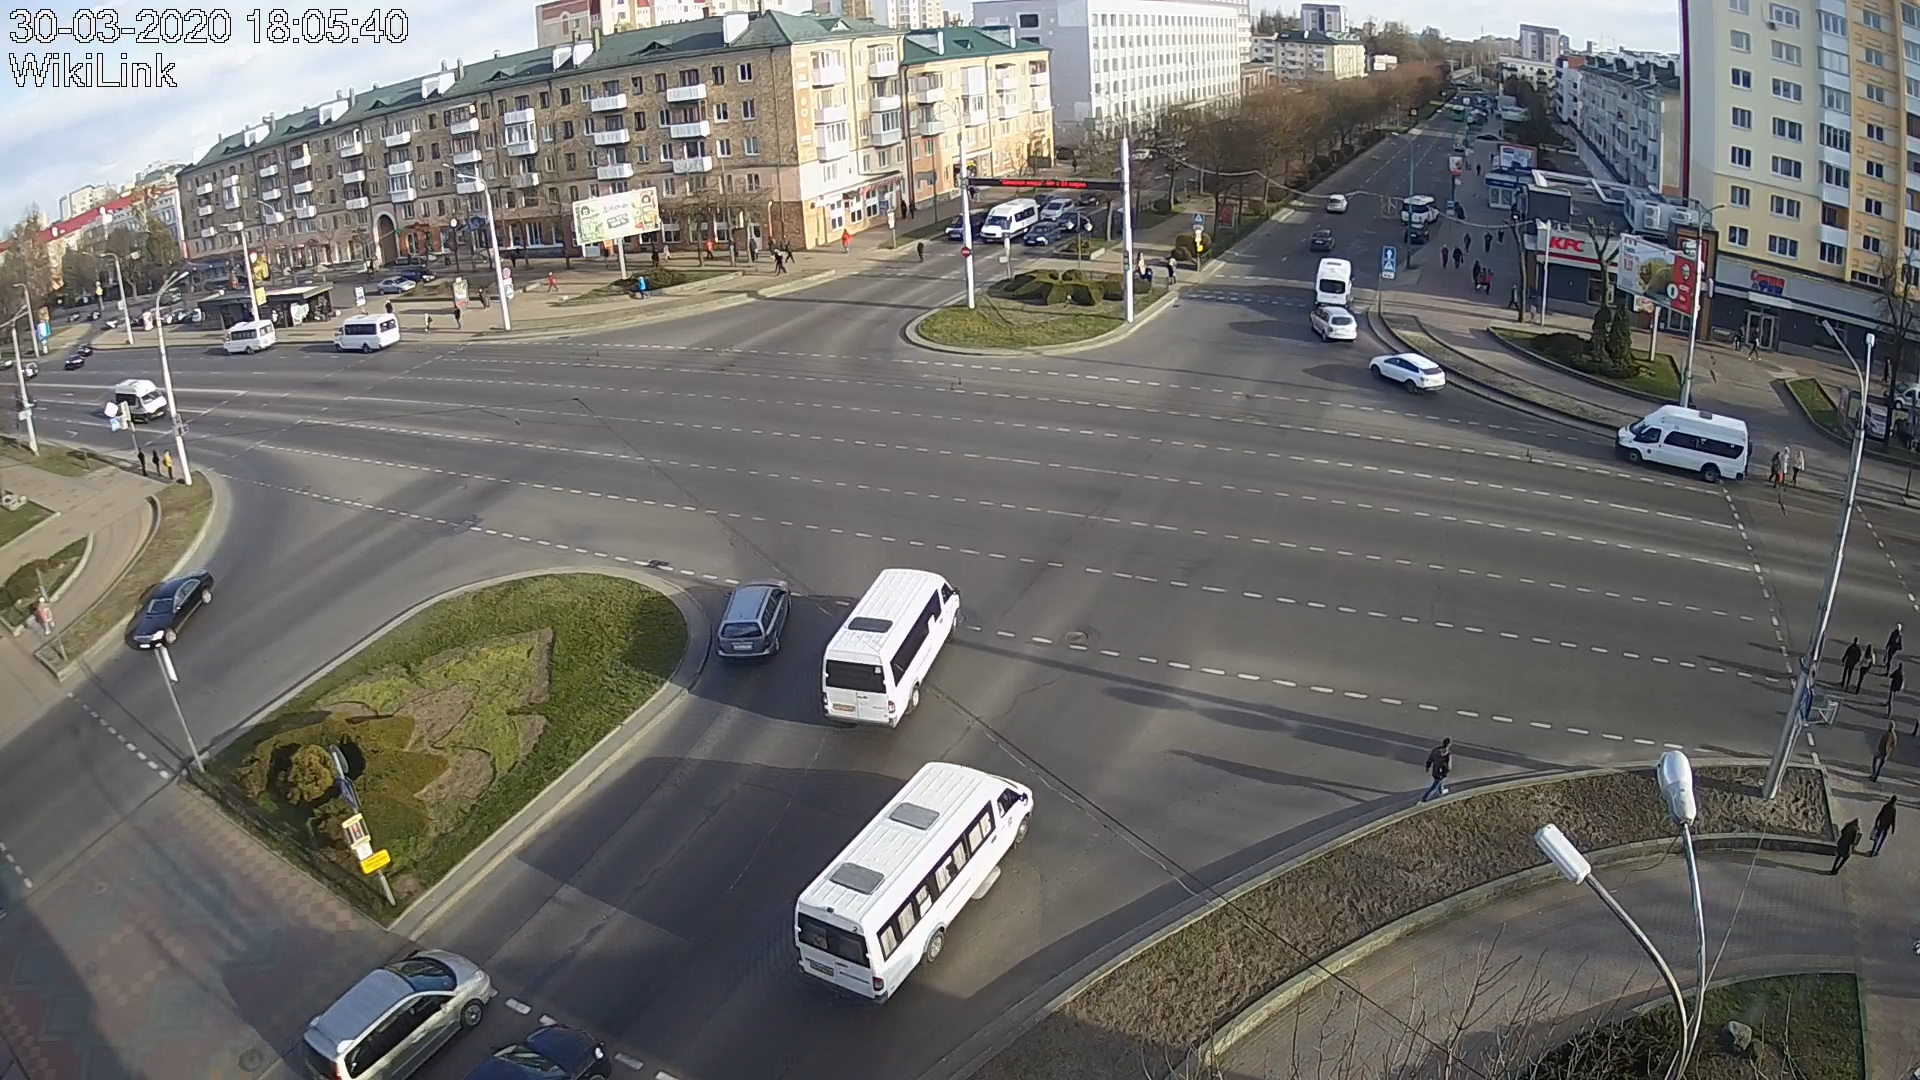car: (793, 761, 1035, 1005), (297, 947, 492, 1080), (820, 567, 961, 731), (1615, 405, 1753, 484), (132, 570, 215, 651), (716, 578, 791, 661), (1367, 351, 1447, 396), (980, 196, 1038, 247), (334, 314, 401, 353), (115, 378, 167, 425), (1315, 257, 1356, 307), (222, 320, 277, 356), (1309, 307, 1358, 343), (945, 207, 989, 243), (1023, 222, 1062, 247), (1309, 229, 1335, 252)
